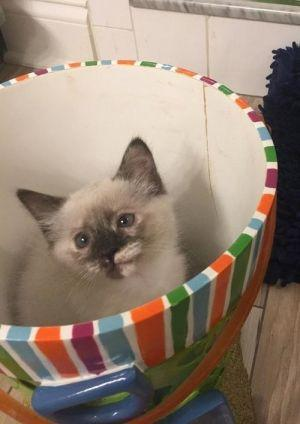siamese: (10, 132, 183, 302)
